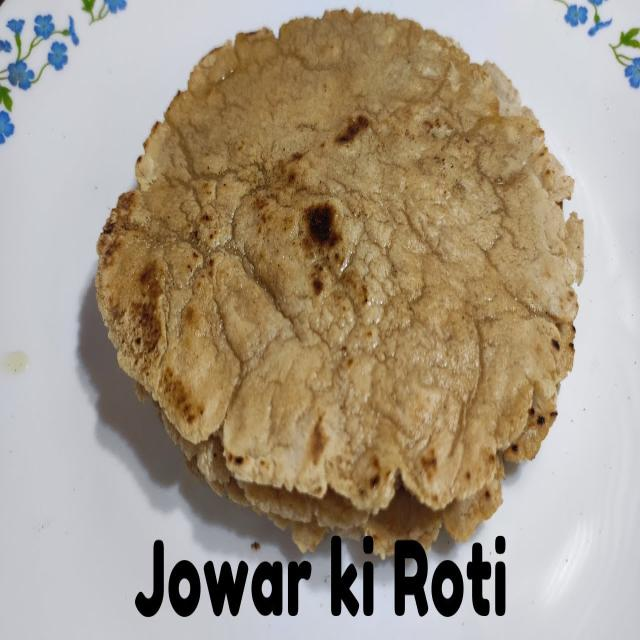ROTI: (96, 11, 582, 514)
